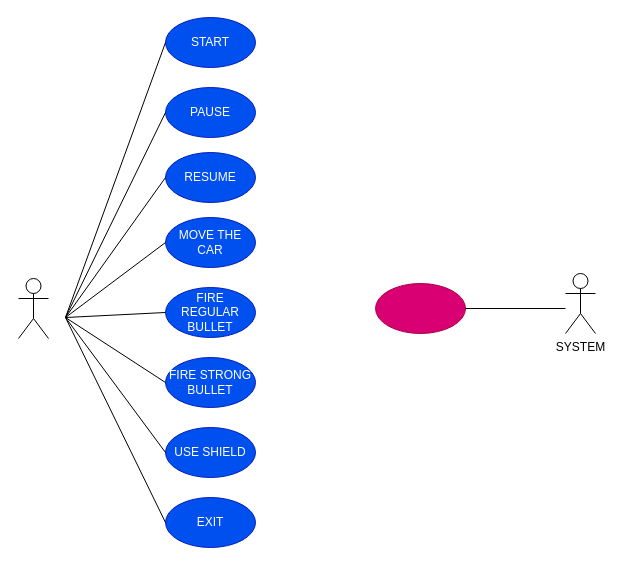
The diagram is 622 pixels wide and 565 high, and some of its shapes have lost their labels. The shapes that lost their labels are listed below. From the top down, each one's centre as x and y in pixels, then its label:
point 33,308: USER
point 420,308: TIME TICK
